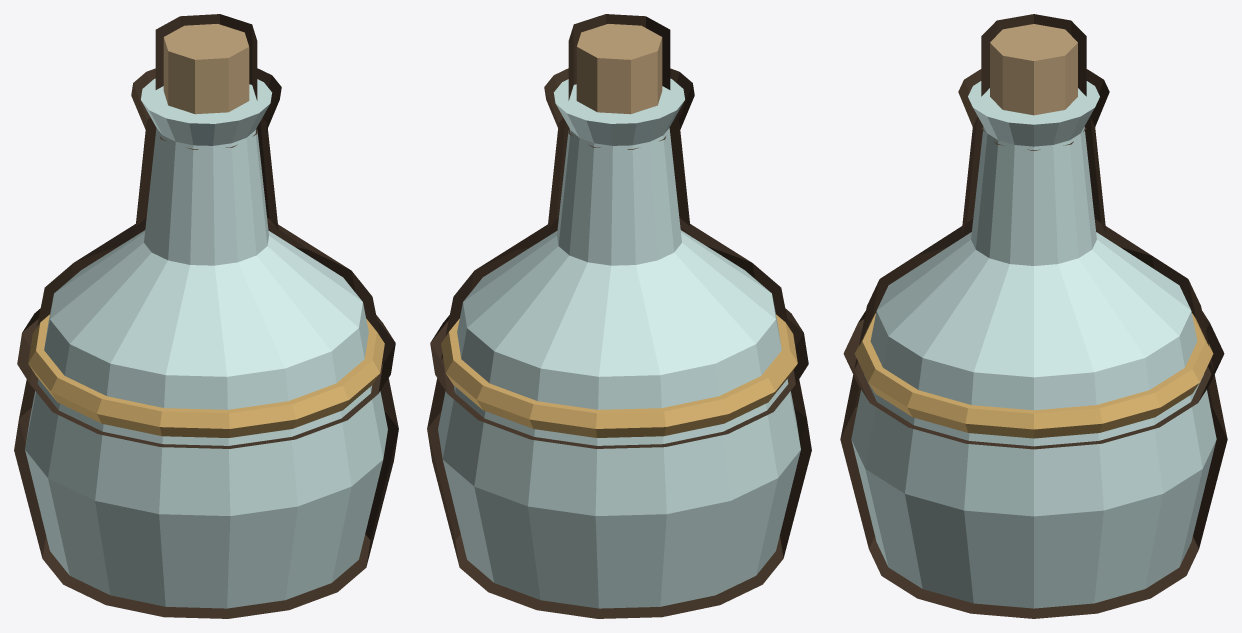
File: potion_bottle.glb
3 views of the same model, side by side, from view 1: azimuth 30°, elevation 25°; view 2: azimuth 150°, elevation 25°; view 3: azimuth 270°, elevation 25° (orthographic).
Visible parts, largest first — view 1: Bottle, Band, Cork; view 2: Bottle, Band, Cork; view 3: Bottle, Band, Cork.
Part boxes in pixels (bbox=[...]): Bottle: bbox=[14, 68, 398, 618]; Band: bbox=[17, 308, 395, 448]; Cork: bbox=[155, 14, 257, 149]; Bottle: bbox=[427, 68, 811, 618]; Band: bbox=[430, 308, 808, 448]; Cork: bbox=[568, 14, 670, 149]; Bottle: bbox=[840, 69, 1227, 618]; Band: bbox=[843, 311, 1224, 449]; Cork: bbox=[981, 14, 1086, 150].
Size of the model in its own units: 0.123 by 0.1847 by 0.123.
